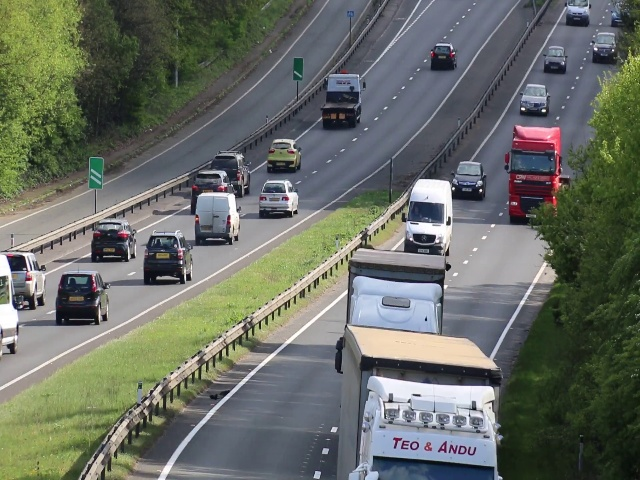car: (54, 272, 109, 326), (509, 136, 539, 226), (141, 231, 192, 283), (319, 73, 365, 130), (406, 191, 449, 251), (193, 192, 239, 243), (89, 223, 137, 260), (1, 257, 19, 355), (257, 179, 299, 218), (15, 253, 47, 303), (266, 139, 303, 171), (454, 162, 486, 198), (429, 40, 459, 72), (520, 84, 547, 116), (543, 44, 569, 73), (594, 30, 614, 64), (193, 170, 224, 190), (235, 154, 250, 192)
